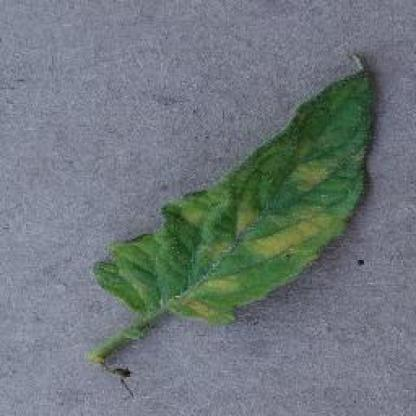Tomato_Leaf_Mold: (96, 58, 376, 326)
